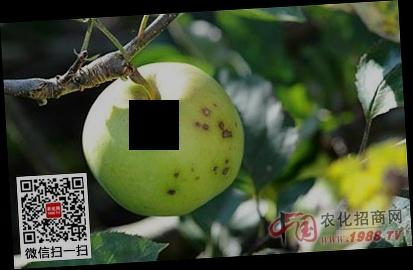rotten apple: (82, 63, 252, 218)
